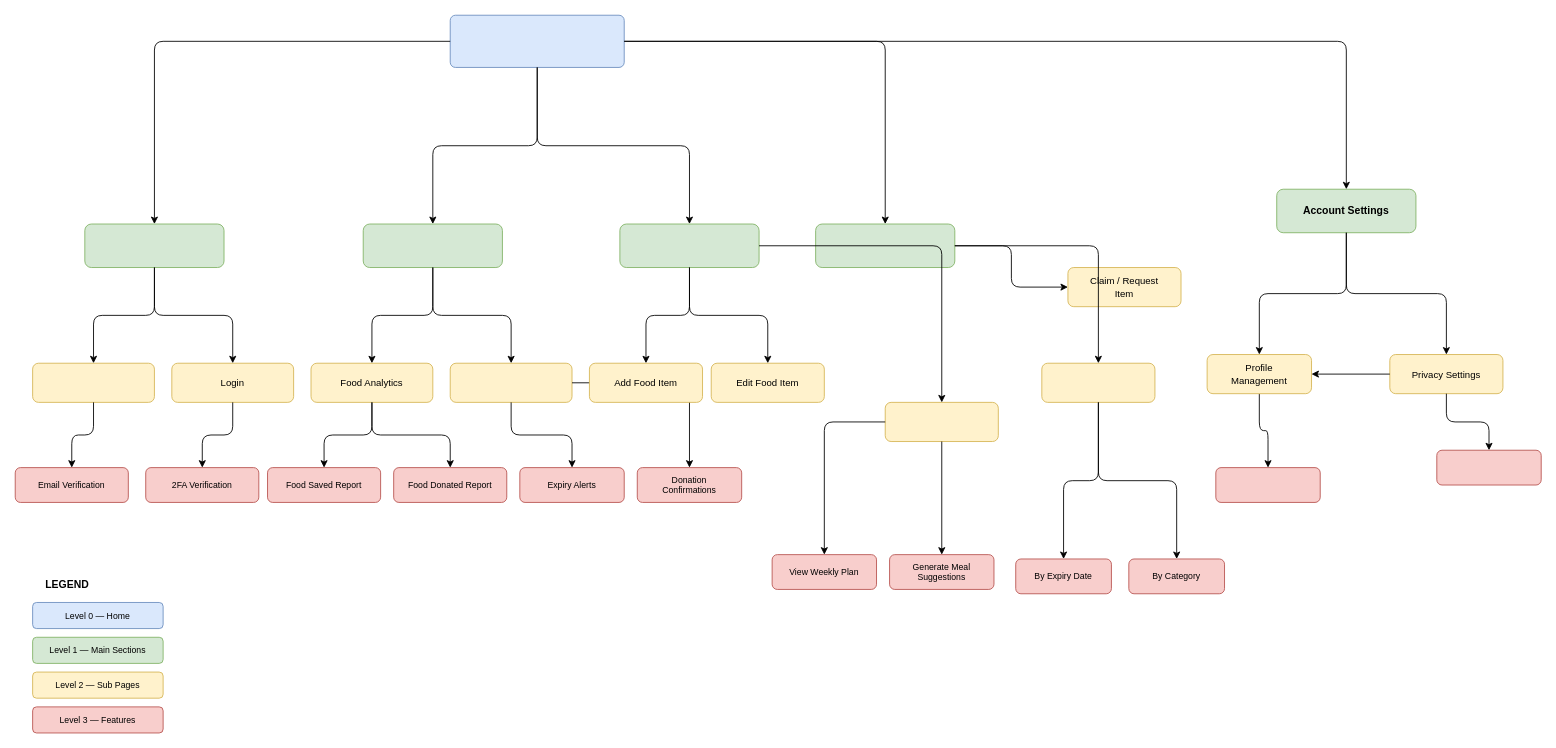
Some shapes in this 1556 by 748 pixel diagram are drawn without their labels. The centre of each missing label's shape, as x and y in pixels:
2FA Management: (1488,467)
Authentication: (154,245)
Browse Donations: (885,245)
Dashboard: (432,245)
Food Inventory: (689,245)
Food Listing Visibility: (1267,484)
Meal Planner: (941,422)
Notifications: (510,382)
Register / Sign Up: (93,382)
Search / Filter: (1098,382)
ZeroWaste (Home / Landing Page): (536,40)
